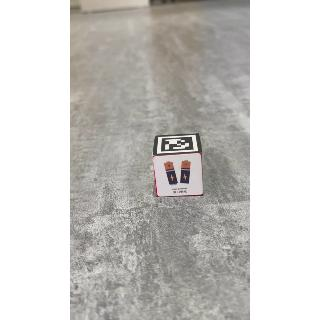Used_Battery: (154, 155, 206, 198)
